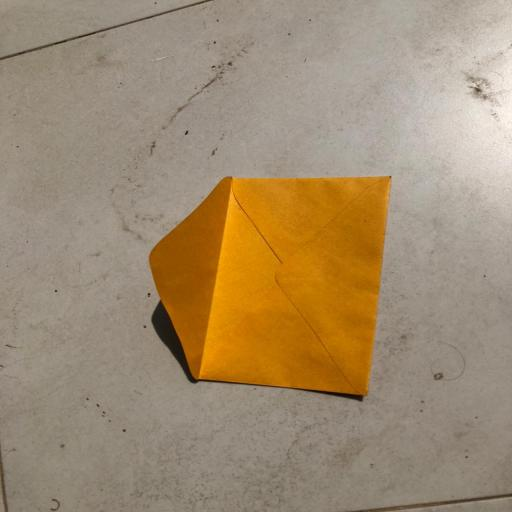waste: (141, 168, 409, 412)
